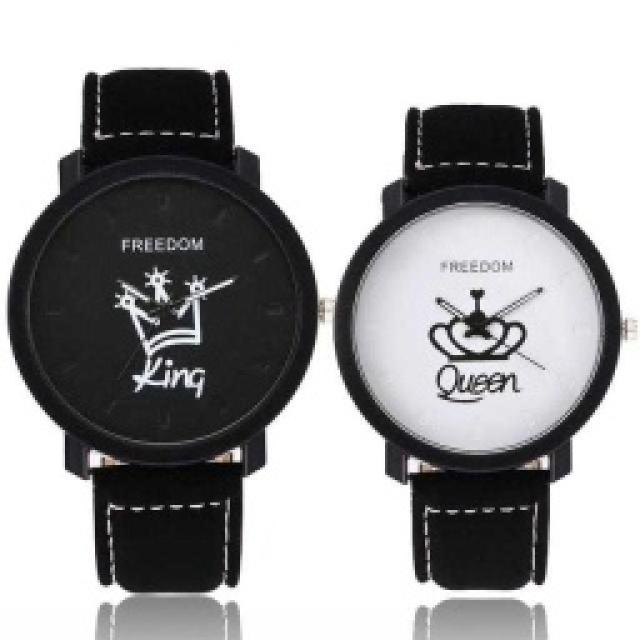saat: (331, 80, 638, 604)
